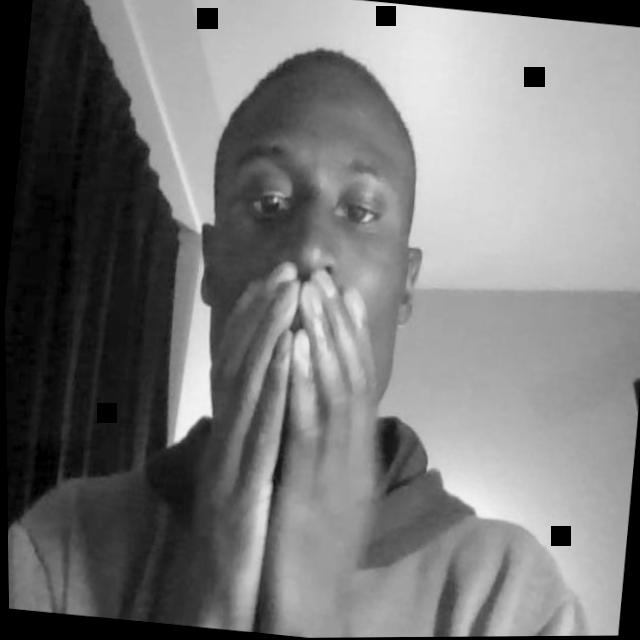NO-Mask: (189, 100, 418, 415)
